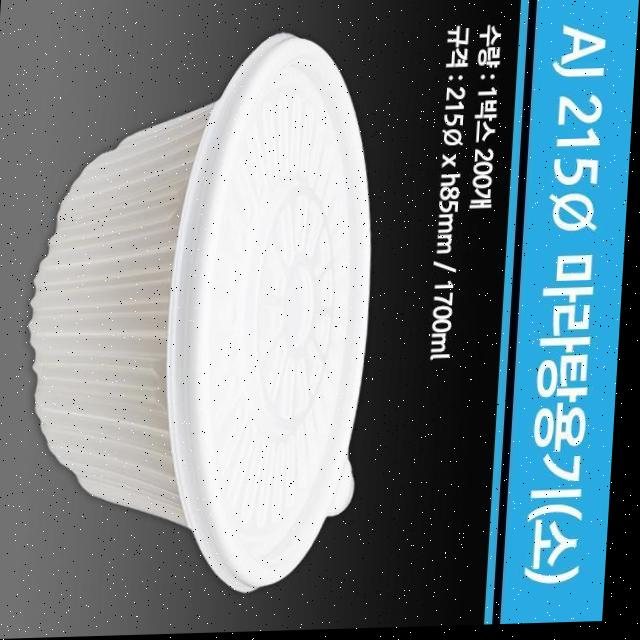disposable: (8, 0, 430, 639)
